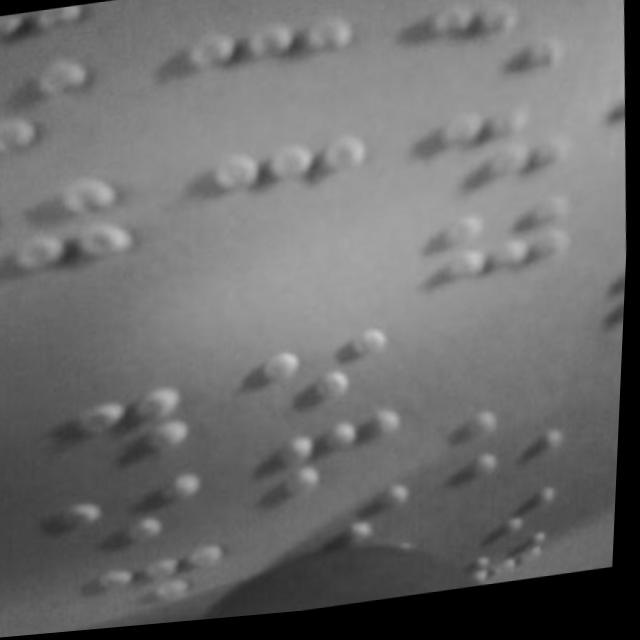braiile: (190, 12, 356, 122), (212, 134, 374, 244), (27, 384, 199, 486), (43, 469, 217, 564), (413, 0, 575, 99), (241, 329, 402, 428), (418, 103, 577, 198), (267, 414, 414, 508), (85, 543, 238, 629), (440, 204, 580, 291)
